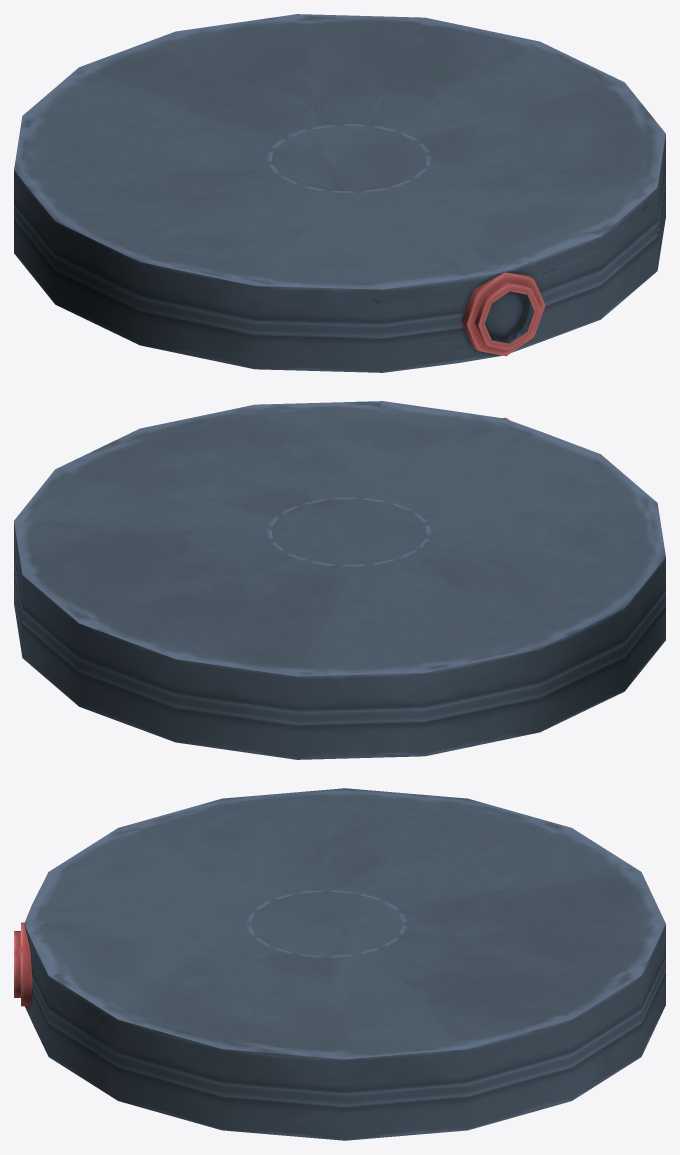
File: Large_Tank_plug.fbx
The picture shows the model from 3 angles, top to bottom: view 1: azimuth 30°, elevation 25°; view 2: azimuth 150°, elevation 25°; view 3: azimuth 270°, elevation 25°; orthographic projection. The views are drawn at different scales.
Parts seen in each view (by area): view 1: Tank_plug_large; view 2: Tank_plug_large; view 3: Tank_plug_large.
Part boxes in pixels (x1,y1,x2,y2): Tank_plug_large: [14, 14, 665, 372]; Tank_plug_large: [14, 401, 665, 759]; Tank_plug_large: [14, 788, 665, 1140].
Size of the model in its own units: 1136 by 160 by 1154.
